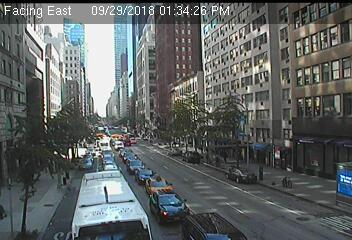car: (72, 171, 152, 240), (182, 212, 247, 240), (150, 192, 190, 223), (146, 176, 175, 198), (225, 166, 257, 183), (135, 167, 155, 184), (126, 158, 145, 174), (181, 151, 200, 164), (123, 151, 139, 163), (102, 165, 119, 176), (78, 158, 92, 170), (166, 147, 182, 157), (101, 154, 115, 163), (101, 161, 116, 167), (83, 153, 93, 161)
